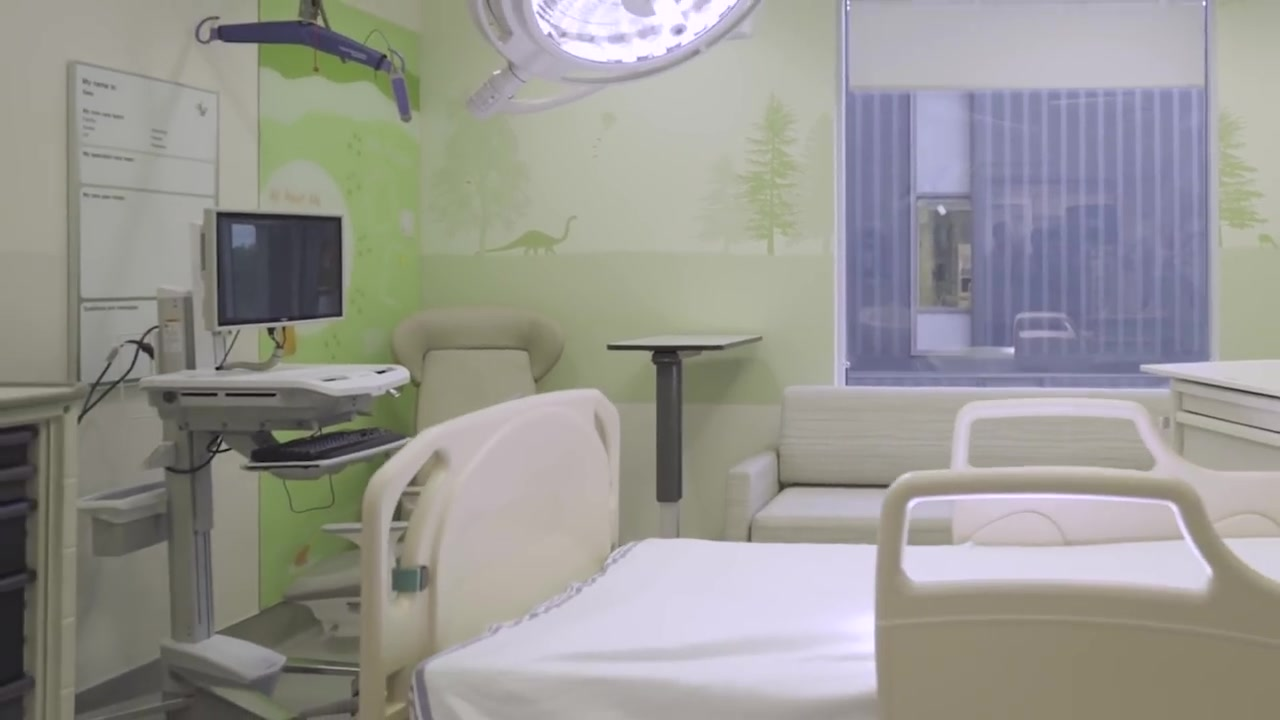bedrail: (876, 466, 1280, 720), (950, 394, 1280, 536)
chair: (388, 302, 564, 432)
computer: (195, 203, 348, 333)
countertop: (142, 358, 412, 397)
foot_board: (359, 385, 624, 714)
hospital_bed: (357, 357, 1274, 720)
keyboard: (251, 426, 405, 465)
overbed_table: (602, 333, 766, 537)
sofa: (724, 368, 1180, 546)
surgical_light: (461, 1, 764, 130)
